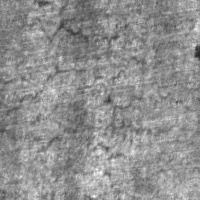crazing: (4, 42, 150, 114), (21, 6, 144, 64), (24, 113, 179, 156)
